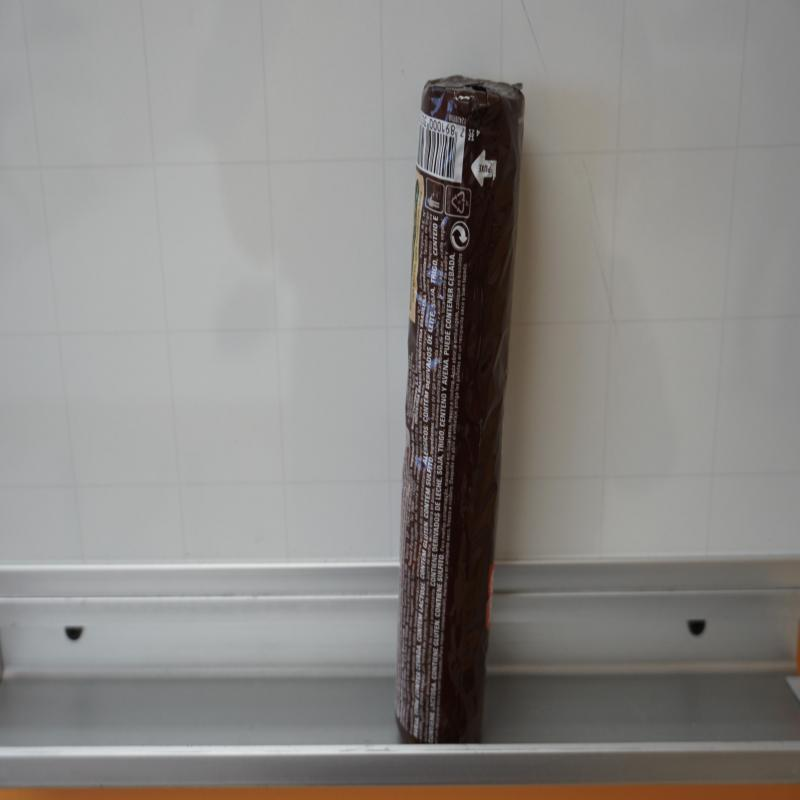Cookies: (396, 76, 526, 747)
